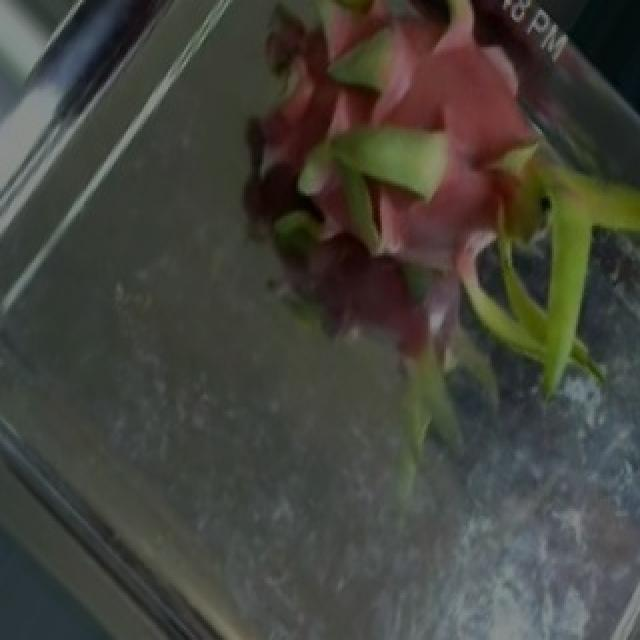fruit: (208, 0, 636, 422)
